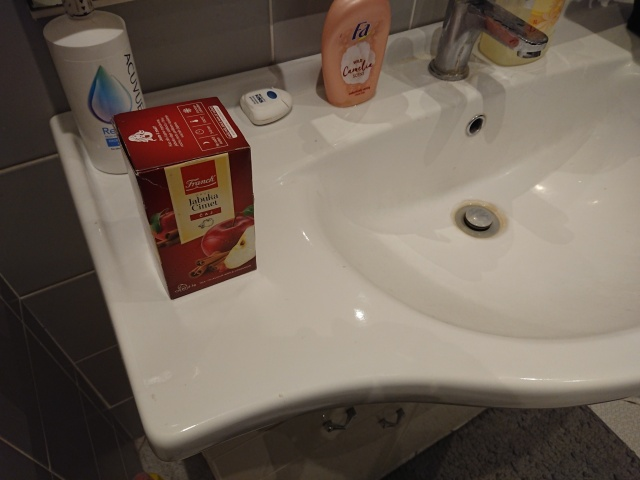Franck Apple Cinnamon Tea 60g: (108, 93, 260, 302)
